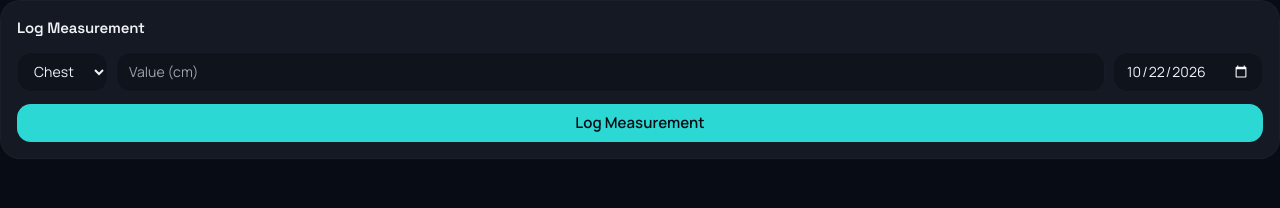
MeasurementForm › shows error when value is empty
The width and height of the screenshot is (1280, 208).
Click the button "Log Measurement" at (640, 123), box x1=17 y1=104 x2=1263 y2=142
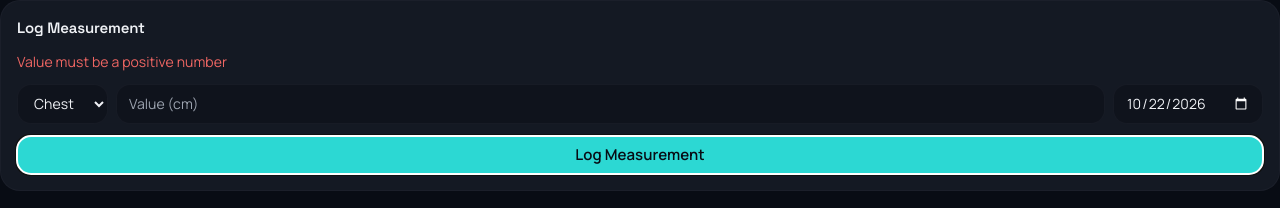
Expected: the text "Value must be a positive number" is shown, x1=17 y1=52 x2=227 y2=70
